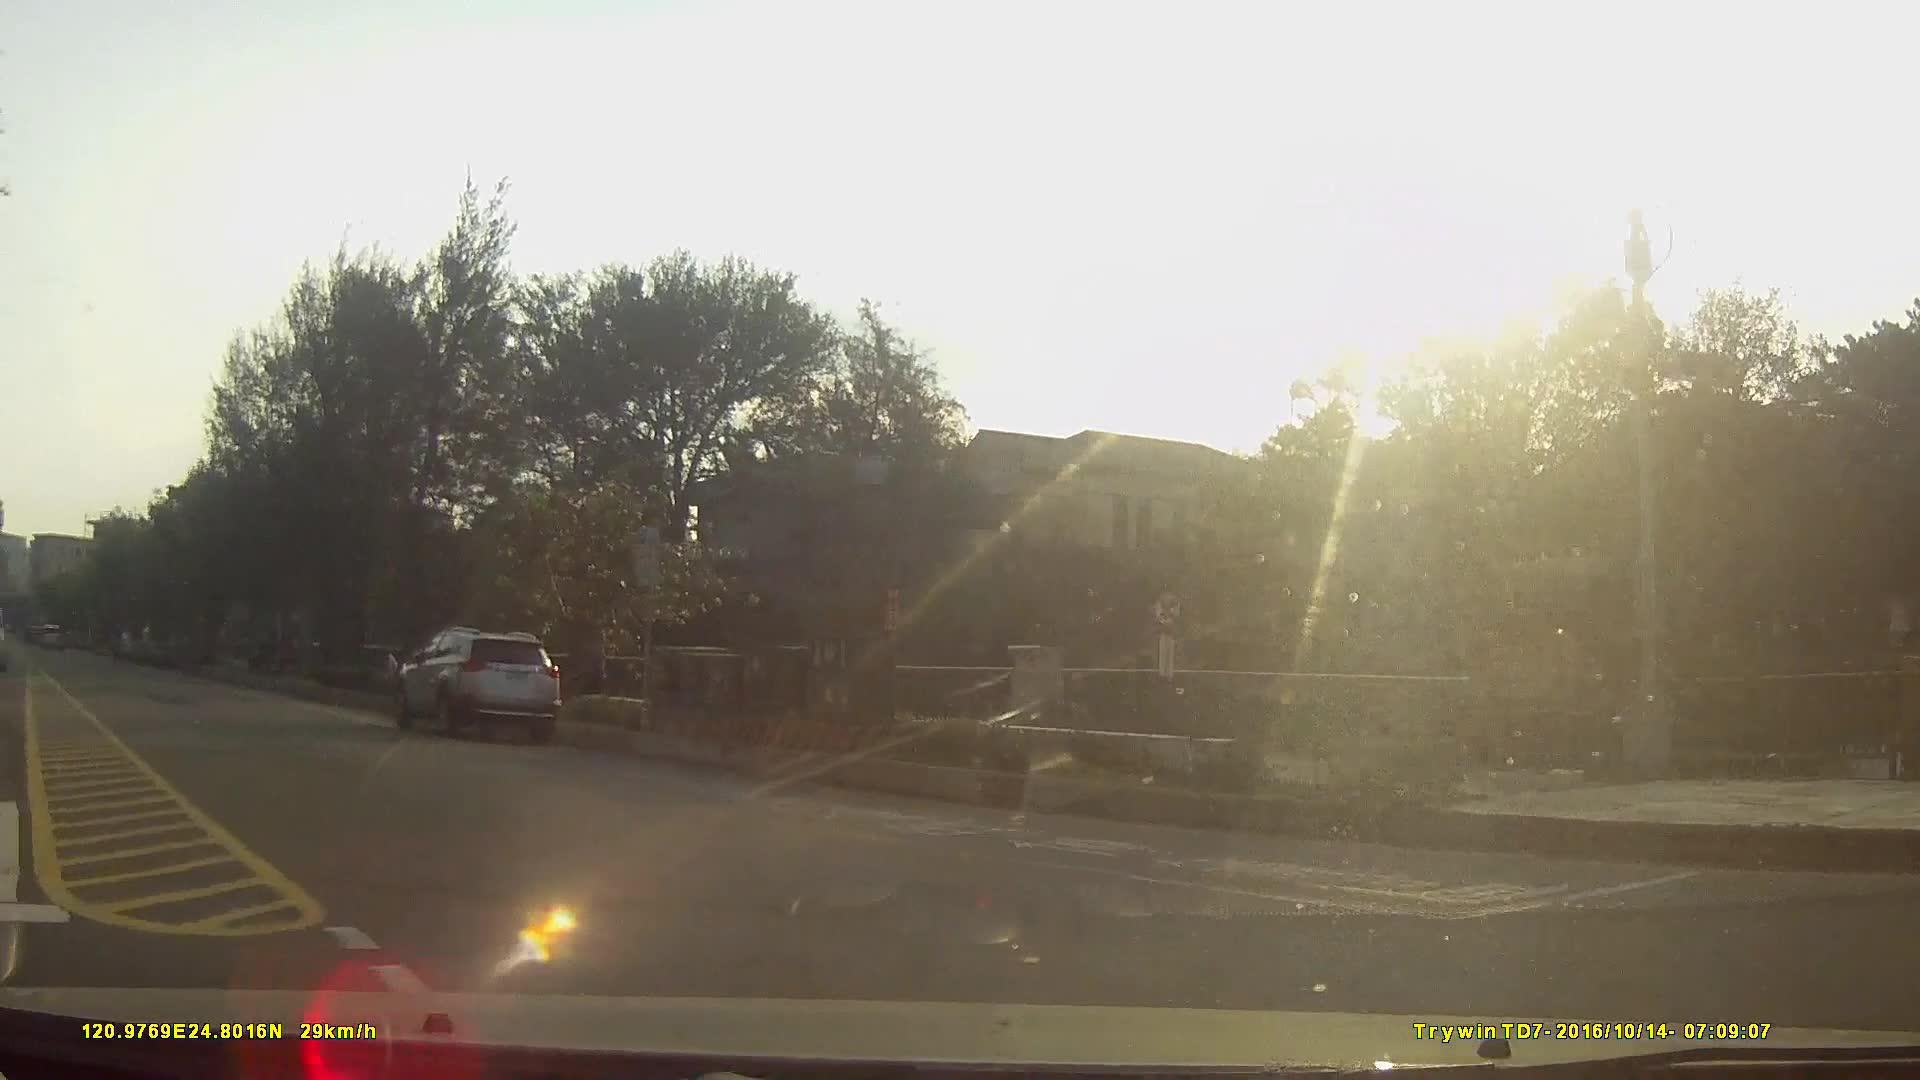vehicle: (393, 622, 559, 738)
